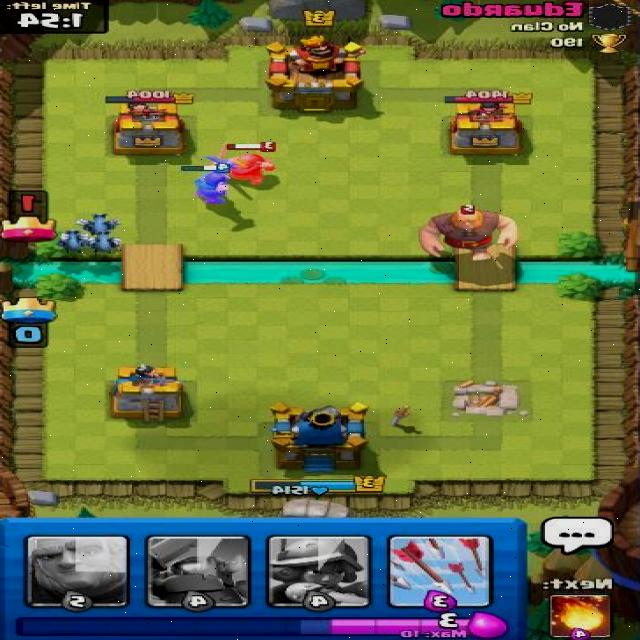Enemy-Giant: (417, 203, 520, 263)
Player-Knight: (211, 140, 280, 188), (177, 161, 234, 205)
Player-Minion: (72, 210, 121, 238), (53, 228, 98, 255), (82, 230, 124, 256)
